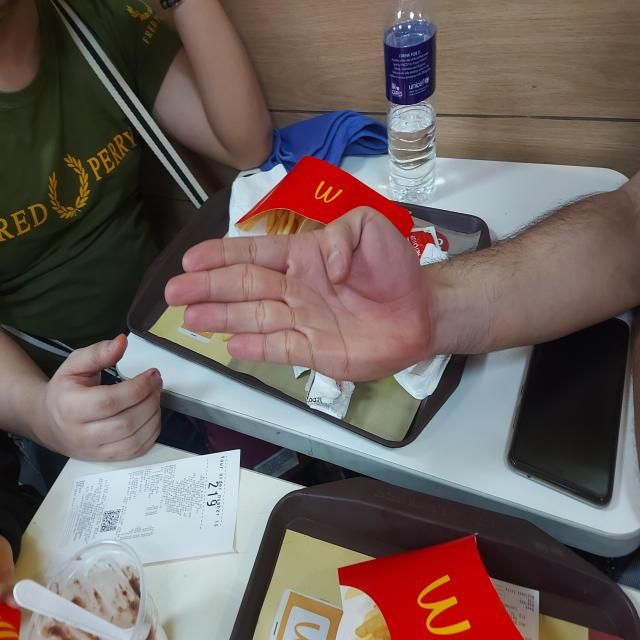B: (255, 162, 439, 435)
